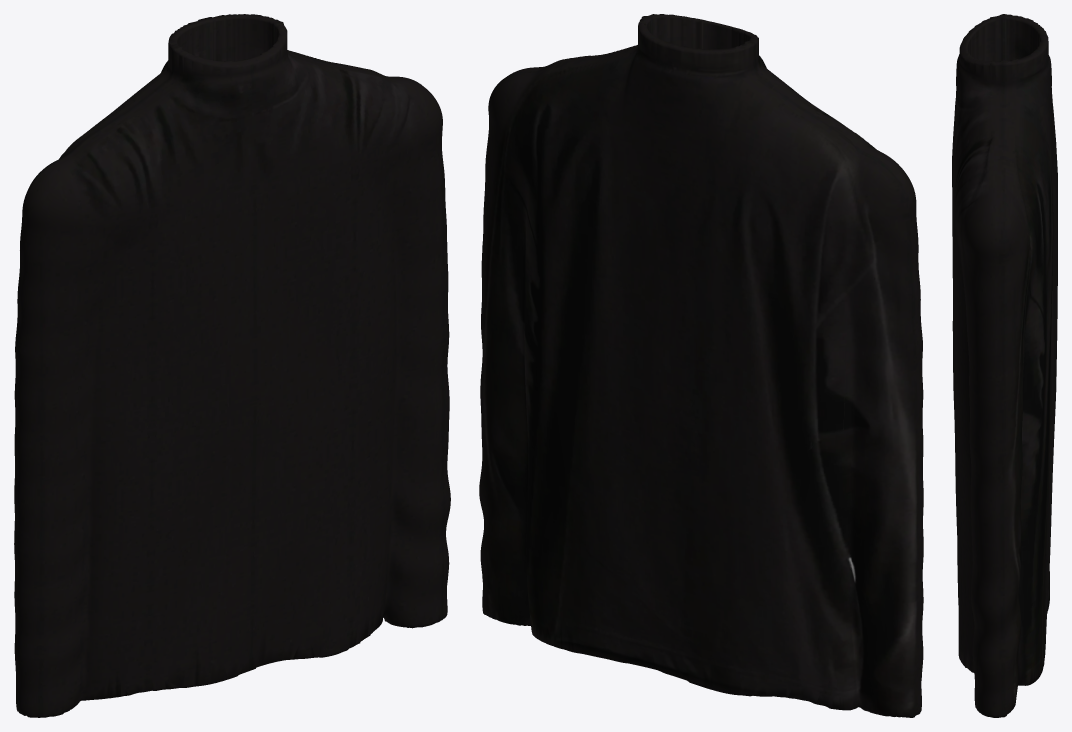
3 renders of one model, left to right at view 1: azimuth 30°, elevation 25°; view 2: azimuth 150°, elevation 25°; view 3: azimuth 270°, elevation 25°, orthographic. The views are drawn at different scales.
Parts seen in each view (by area): view 1: TT08-W04; view 2: TT08-W04; view 3: TT08-W04.
Part boxes in pixels (x1,y1,x2,y2): TT08-W04: (14,14,450,717); TT08-W04: (479,14,923,717); TT08-W04: (952,14,1057,717).
Size of the model in its own units: 0.7214 by 1 by 0.1647.
1 material, 1 textured.
